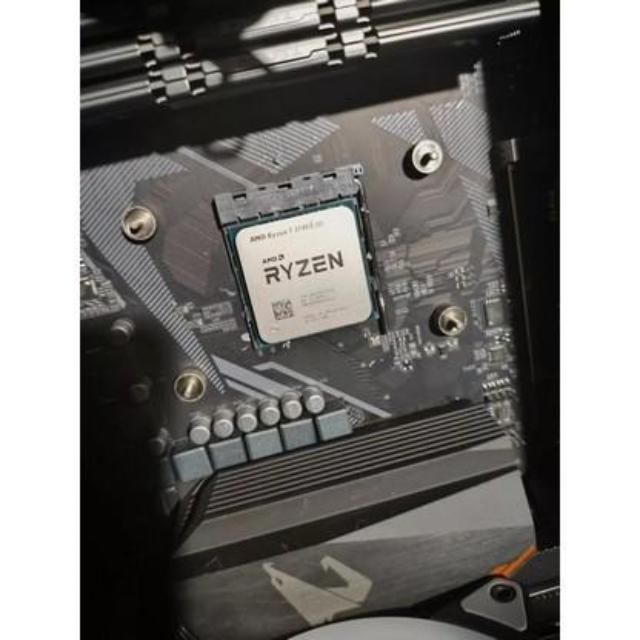CPU: (233, 205, 378, 344)
